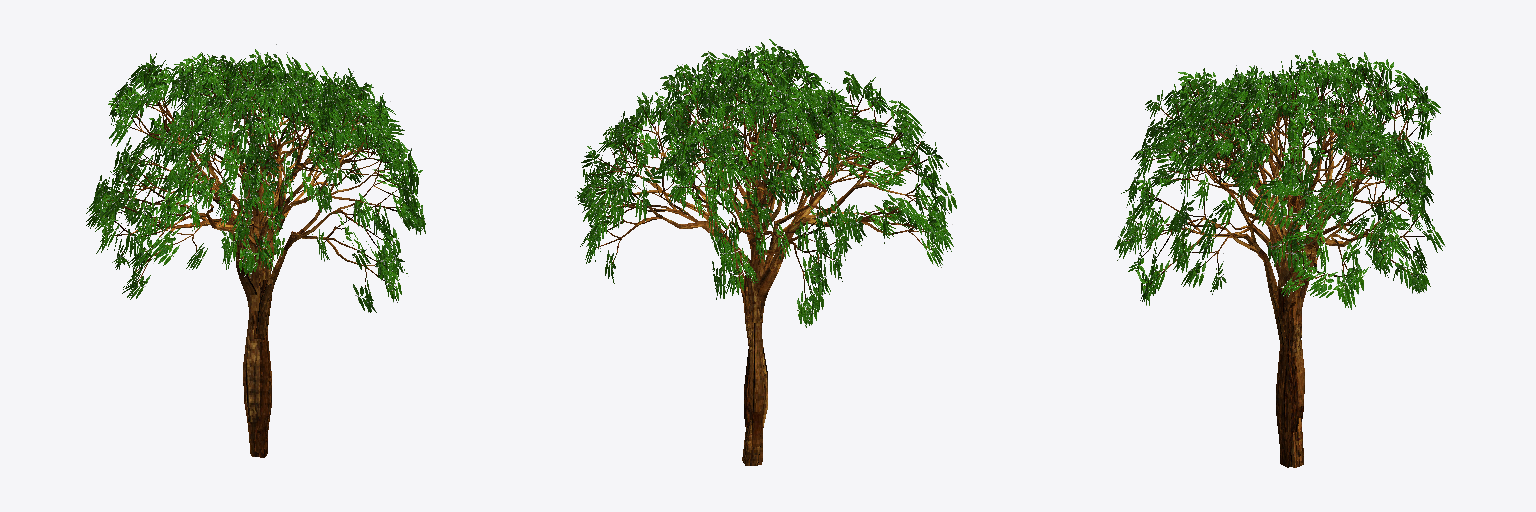
The picture shows the model from 3 angles: view 1: azimuth 30°, elevation 25°; view 2: azimuth 150°, elevation 25°; view 3: azimuth 270°, elevation 25°; orthographic projection.
Parts seen in each view (by area): view 1: tree1.001; view 2: tree1.001; view 3: tree1.001.
Part boxes in pixels (left/top/right/bottom): tree1.001: left=86, top=44, right=425, bottom=457; tree1.001: left=575, top=39, right=956, bottom=465; tree1.001: left=1114, top=50, right=1445, bottom=467.
Bounding box in the file's own units: 74.61 × 81.3 × 63.25.
Materials: 1 (1 with a texture image).